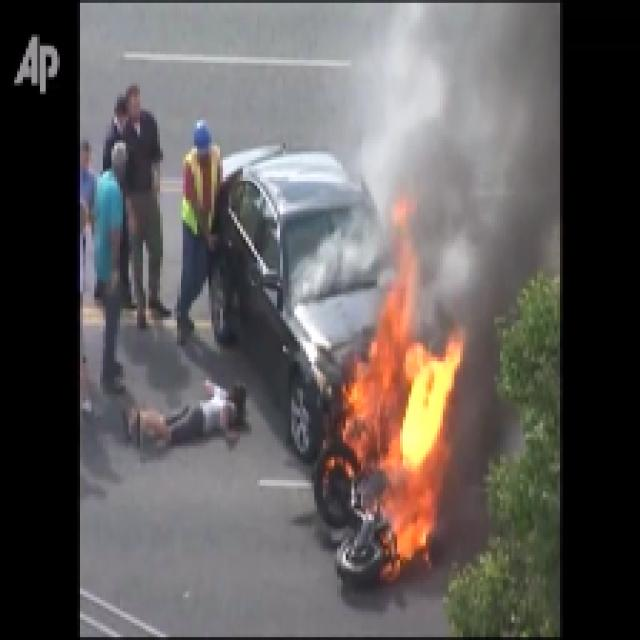fire: (340, 338, 471, 566)
smoke: (370, 5, 558, 213)
